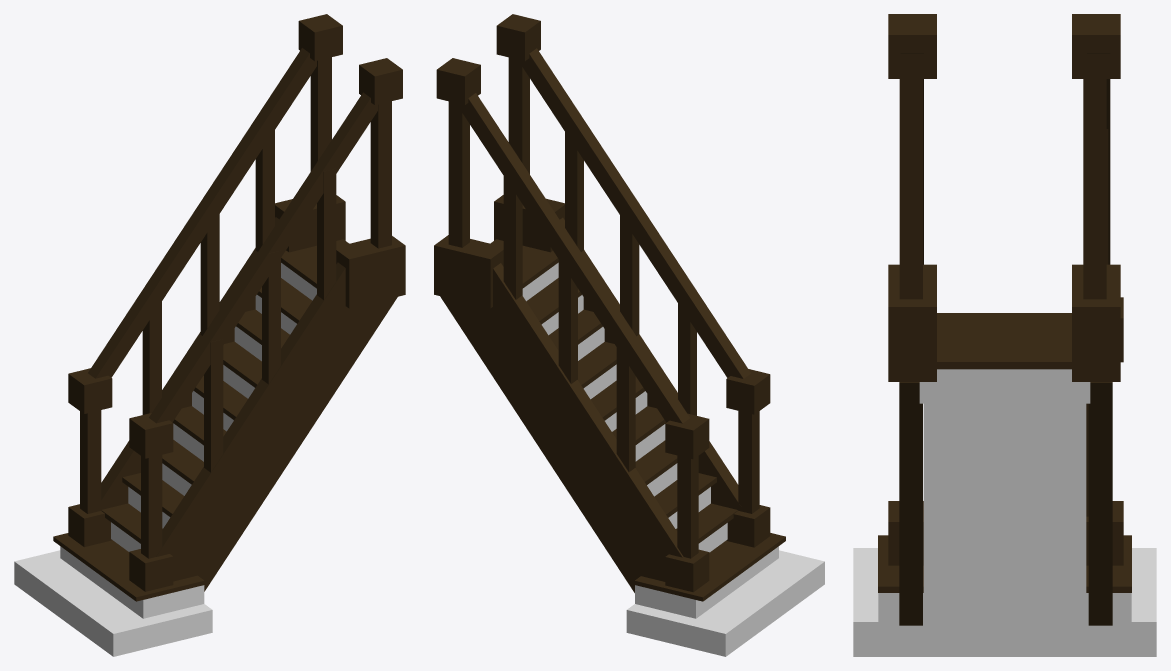
Rendered from stairs.fbx.
3 views of the same model, side by side, from view 1: azimuth 30°, elevation 25°; view 2: azimuth 150°, elevation 25°; view 3: azimuth 270°, elevation 25° (orthographic). The views are drawn at different scales.
Parts seen in each view (by area): view 1: Cube.012, Cube.013, Cube.019, Cube.020, Cube.002, Cube.028, Cube.029, Cube.027, Cube.025, Cube.021, Cube.023, Cube.014 (+21 smaller); view 2: Cube.027, Cube.019, Cube.013, Cube.020, Cube.002, Cube.033, Cube.032, Cube.012, Cube.017, Cube.014, Cube.022, Cube.024 (+21 smaller); view 3: Cube.013, Cube.010, Cube.002, Cube.027, Cube.012, Cube.032, Cube.029, Cube.033, Cube.028, Cube.001, Cube.003, Cube.005 (+10 smaller).
Boxes of the visible parts, <box> form: Cube.012: <box>156,262,397,591</box>; Cube.013: <box>14,550,212,656</box>; Cube.019: <box>88,48,316,378</box>; Cube.020: <box>149,92,377,423</box>; Cube.002: <box>53,533,204,618</box>; Cube.028: <box>336,236,405,308</box>; Cube.029: <box>370,101,391,248</box>; Cube.027: <box>101,217,279,509</box>; Cube.025: <box>204,339,223,472</box>; Cube.021: <box>317,168,336,299</box>; Cube.023: <box>262,250,280,384</box>; Cube.014: <box>80,410,101,513</box>; Cube.027: <box>440,263,683,592</box>; Cube.019: <box>456,93,689,423</box>; Cube.013: <box>626,550,824,656</box>; Cube.020: <box>518,48,750,378</box>; Cube.002: <box>634,533,785,618</box>; Cube.033: <box>434,235,503,308</box>; Cube.032: <box>448,101,469,247</box>; Cube.012: <box>560,217,744,512</box>; Cube.017: <box>738,411,759,513</box>; Cube.014: <box>677,455,698,558</box>; Cube.022: <box>616,347,635,471</box>; Cube.024: <box>558,259,577,383</box>; Cube.013: <box>853,548,1156,656</box>; Cube.010: <box>919,313,1090,403</box>; Cube.002: <box>878,535,1131,621</box>; Cube.027: <box>1088,382,1112,625</box>; Cube.012: <box>899,382,922,625</box>; Cube.032: <box>1083,79,1106,299</box>; Cube.029: <box>899,79,922,299</box>; Cube.033: <box>1072,264,1120,381</box>; Cube.028: <box>888,264,936,381</box>; Cube.001: <box>923,574,1086,600</box>; Cube.003: <box>923,548,1086,574</box>; Cube.005: <box>923,496,1086,522</box>.
Size of the model in its own units: 1432 by 2279 by 810.
